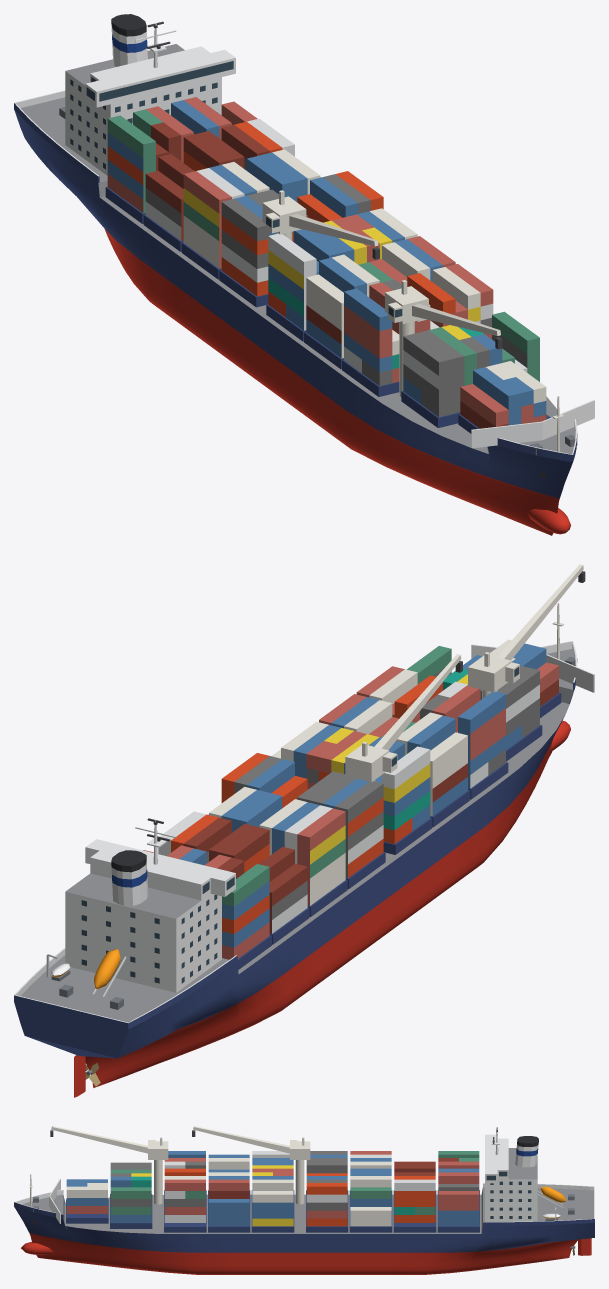
The model's file is ambient_container_ship.fbx.
The picture shows the model from 3 angles, top to bottom: view 1: azimuth 30°, elevation 25°; view 2: azimuth 150°, elevation 25°; view 3: azimuth 270°, elevation 25°; orthographic projection. The views are drawn at different scales.
Visible parts, largest first — view 1: ambient_container_ship; view 2: ambient_container_ship; view 3: ambient_container_ship.
Part boxes in pixels (left/top/right/bottom): ambient_container_ship: left=14, top=14, right=594, bottom=535; ambient_container_ship: left=14, top=564, right=594, bottom=1097; ambient_container_ship: left=14, top=1126, right=594, bottom=1274.
Size of the model in its own units: 27.66 by 42 by 172.
